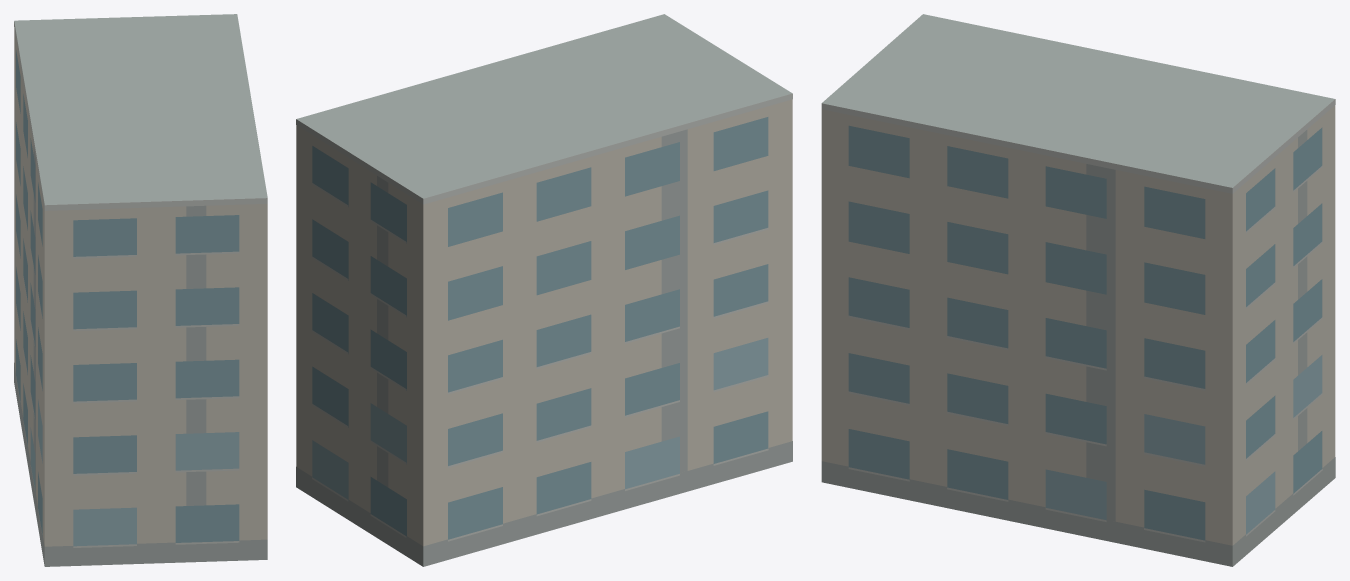
File: survey-upis-33011195.glb
3 views of the same model, side by side, from view 1: azimuth 30°, elevation 25°; view 2: azimuth 150°, elevation 25°; view 3: azimuth 270°, elevation 25° (orthographic). The views are drawn at different scales.
Visible parts, largest first — view 1: survey-upis-33011195.tmp; view 2: survey-upis-33011195.tmp; view 3: survey-upis-33011195.tmp.
Part boxes in pixels (x1,y1,x2,y2): survey-upis-33011195.tmp: (14,14,267,566); survey-upis-33011195.tmp: (296,14,792,566); survey-upis-33011195.tmp: (821,14,1335,566).
Size of the model in its own units: 15.17 by 15.4 by 18.94.
